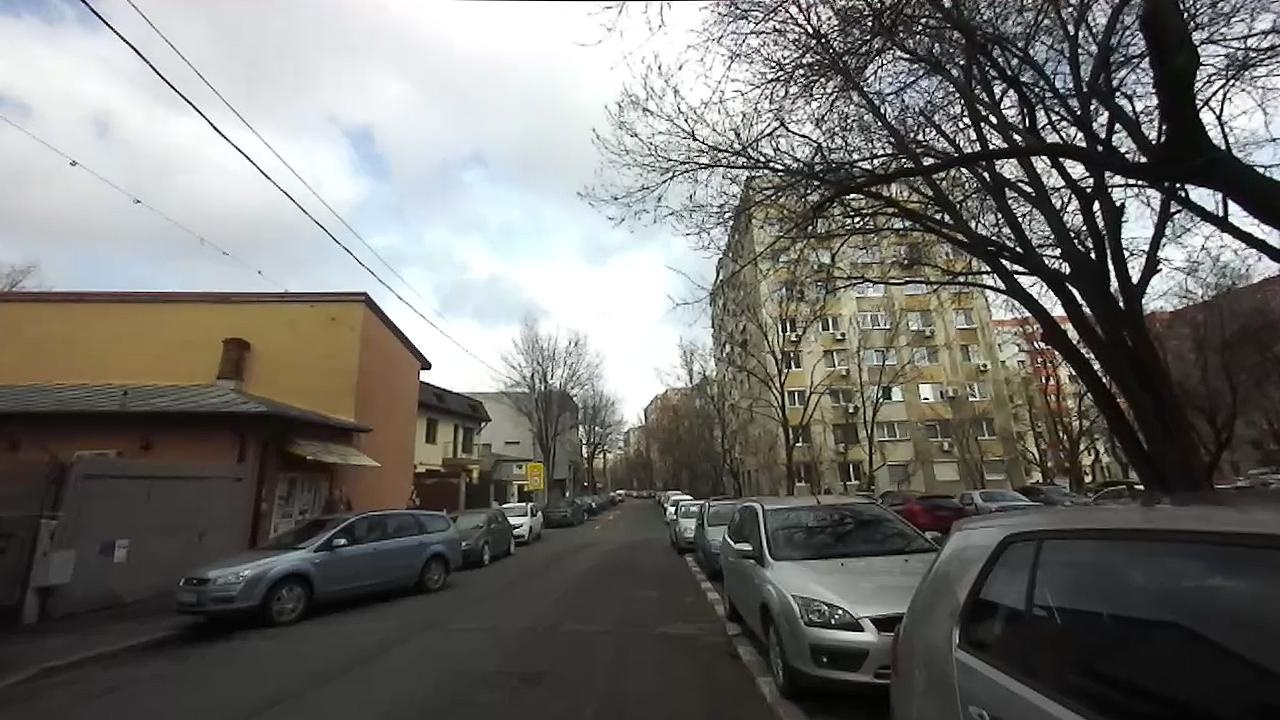pothole: (486, 661, 551, 694)
